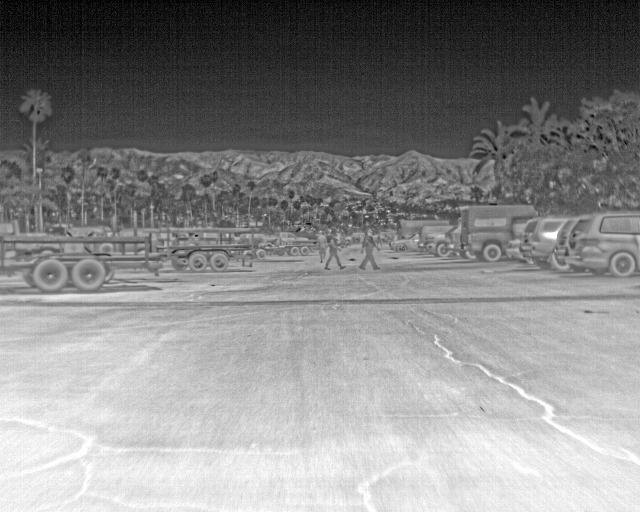bicycle: (564, 211, 639, 274), (517, 213, 570, 274), (557, 217, 579, 259), (392, 234, 423, 253), (421, 242, 453, 258), (419, 224, 454, 238), (275, 230, 310, 242), (506, 240, 523, 259)
empty: (356, 229, 380, 269), (322, 230, 346, 269), (316, 228, 330, 259)
